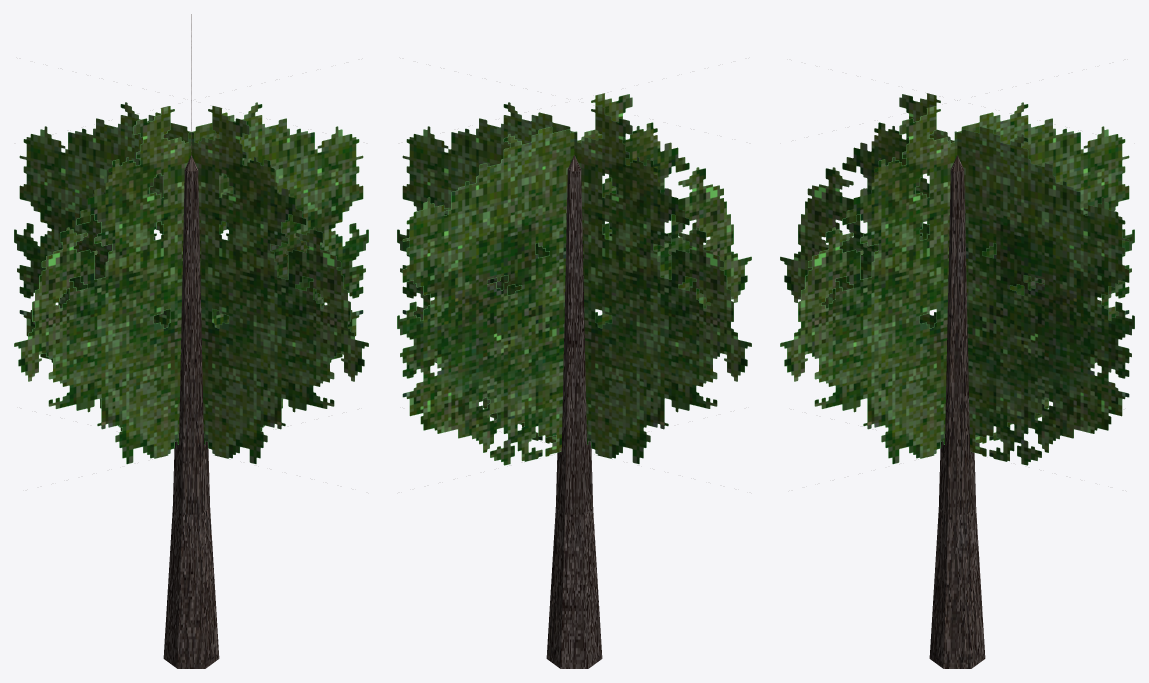
File: tree2.fbx
3 renders of one model, left to right at view 1: azimuth 30°, elevation 25°; view 2: azimuth 150°, elevation 25°; view 3: azimuth 270°, elevation 25°, orthographic.
Parts seen in each view (by area): view 1: feuillage.002, feuillage, tronc; view 2: feuillage.001, feuillage, tronc; view 3: feuillage.001, feuillage.002, tronc.
Part boxes in pixels (bbox=[...]): feuillage.002: bbox=[14, 102, 368, 463]; feuillage: bbox=[14, 102, 368, 464]; tronc: bbox=[163, 155, 219, 668]; feuillage.001: bbox=[397, 93, 751, 465]; feuillage: bbox=[397, 102, 751, 463]; tronc: bbox=[546, 155, 602, 668]; feuillage.001: bbox=[780, 93, 1134, 465]; feuillage.002: bbox=[780, 102, 1134, 464]; tronc: bbox=[929, 155, 985, 668].
Size of the model in its own units: 628 by 945 by 544.
